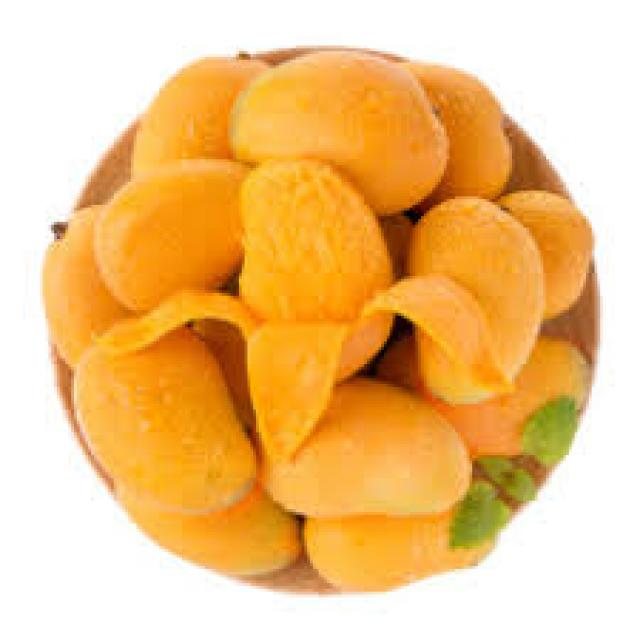organic waste: (216, 145, 398, 398), (71, 310, 276, 509), (227, 51, 443, 219), (404, 193, 540, 404), (250, 381, 464, 506), (122, 438, 299, 566), (91, 156, 250, 298), (284, 481, 490, 586), (398, 338, 592, 446), (40, 216, 188, 356), (122, 54, 268, 185), (407, 54, 509, 219), (501, 185, 592, 318)
